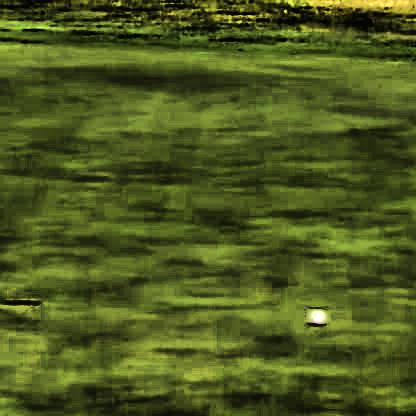golfball: (303, 310, 325, 326)
